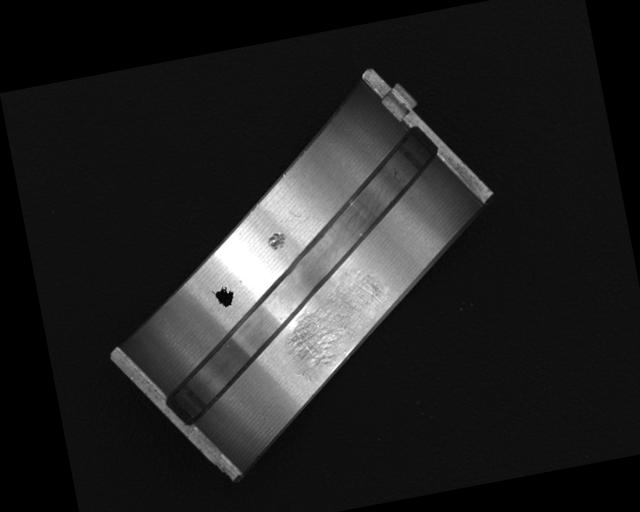blot: (209, 282, 236, 309)
bruise: (264, 228, 288, 252)
gap: (132, 125, 477, 426)
scratch: (275, 262, 394, 370)
